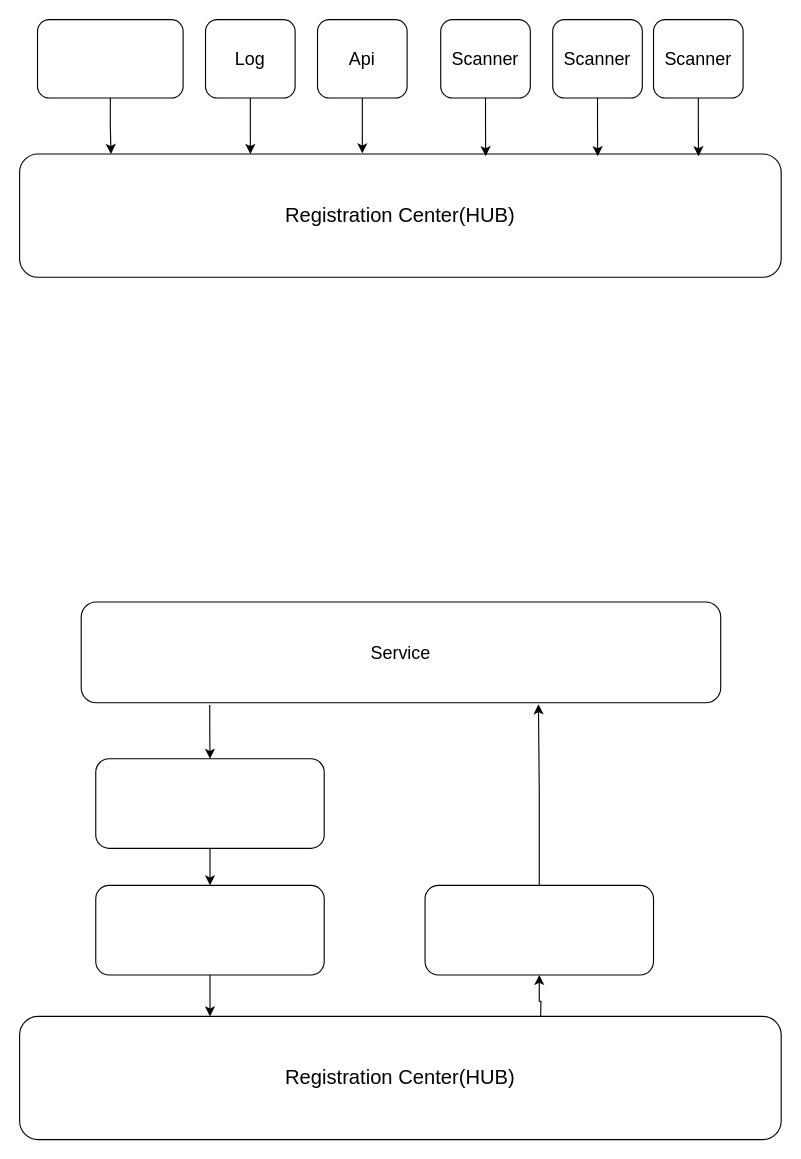
Some shapes in this 801 by 1159 pixel diagram are drawn without their labels. The centre of each missing label's shape, as x and y in pixels:
"DatabaseAPI" goes at [109,58].
"Dependent" goes at [539,929].
"Start" goes at [209,803].
"StartService" goes at [209,929].
